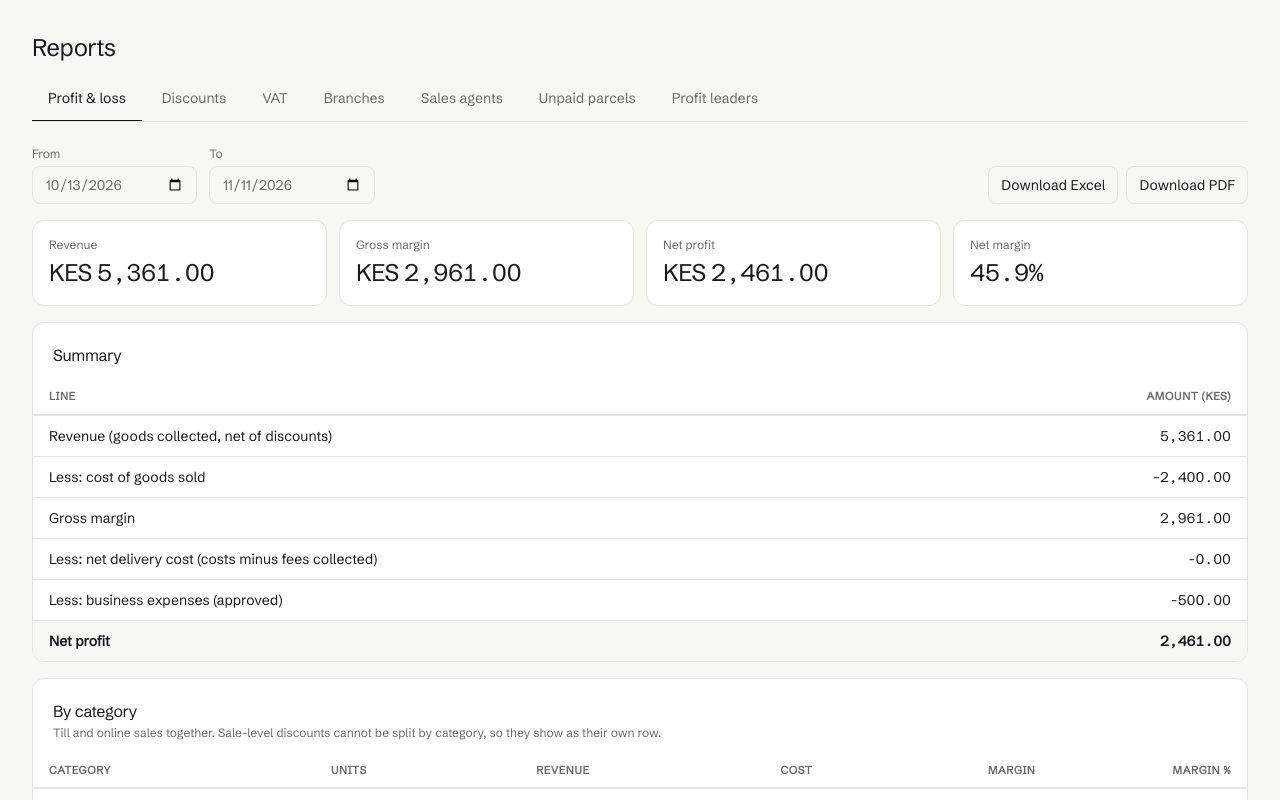
Reports page › unpaid parcels › shows an empty state
Click the tab "Unpaid parcels".
click(587, 99)  # box [523,76,652,122]
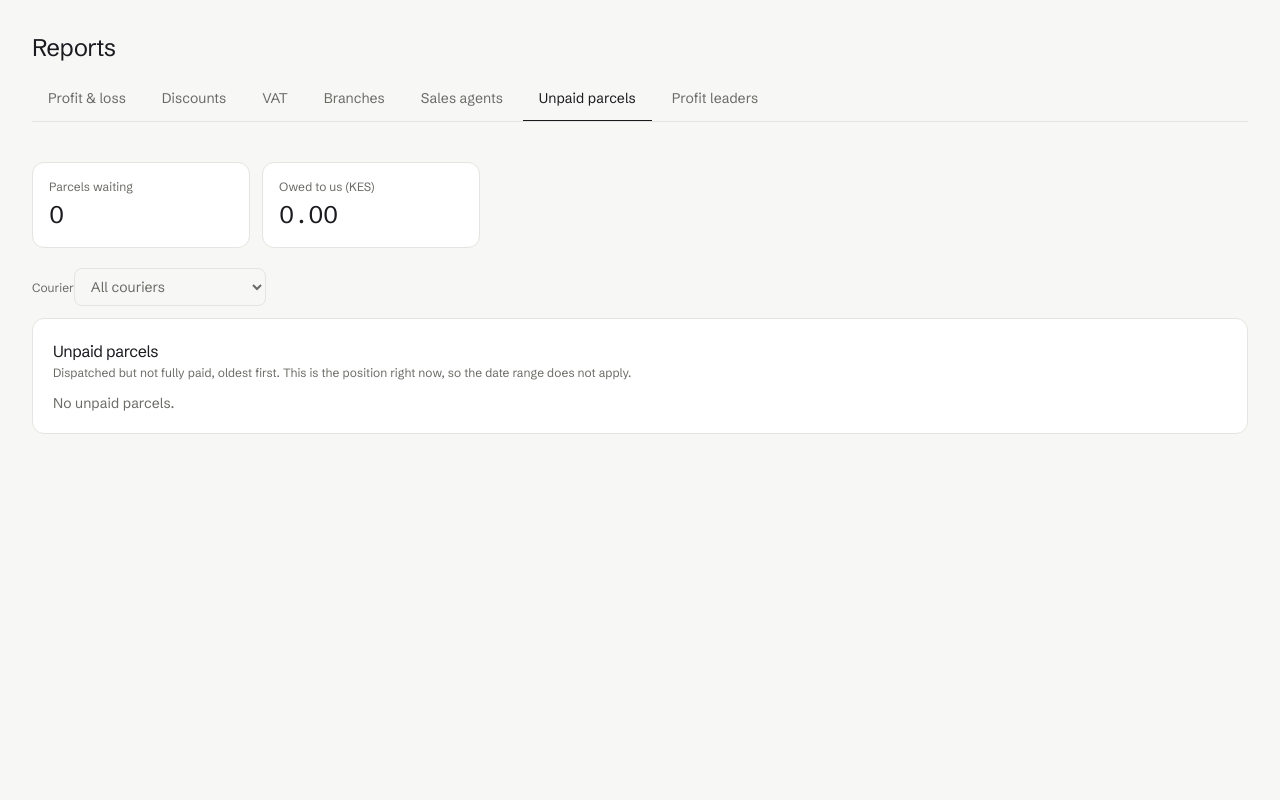
Check: the text "No unpaid parcels." is shown, box [53,394,174,412]
